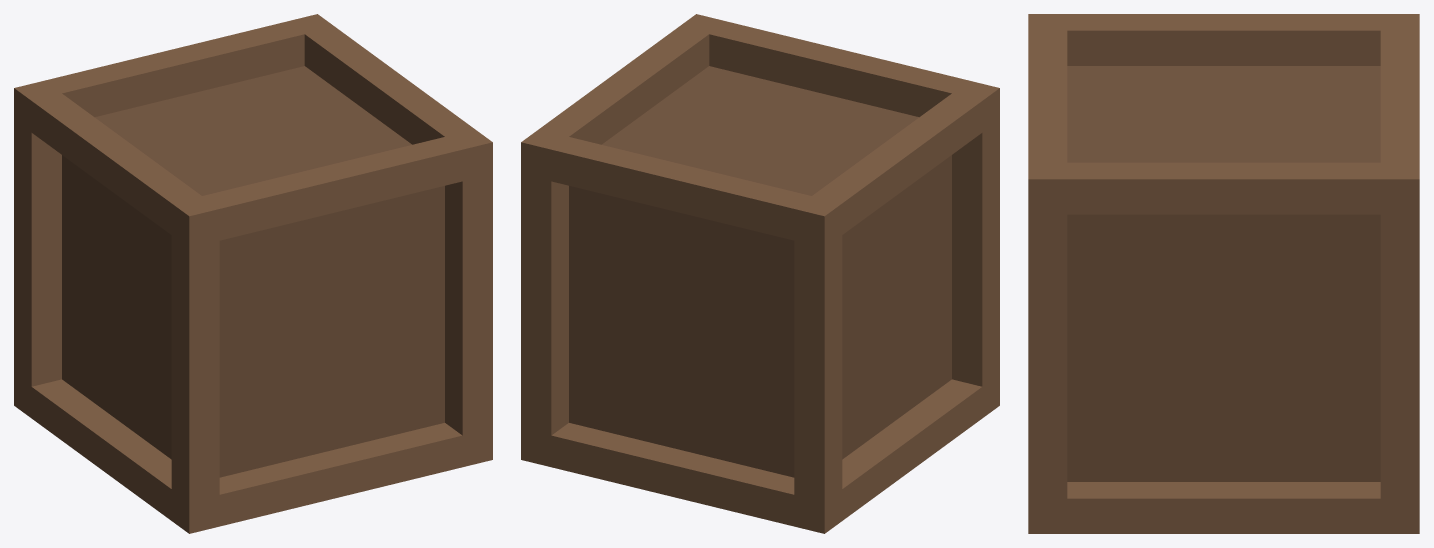
The model's file is BlocksAndFloors-4.obj.
3 renders of one model, left to right at view 1: azimuth 30°, elevation 25°; view 2: azimuth 150°, elevation 25°; view 3: azimuth 270°, elevation 25°, orthographic. The views are drawn at different scales.
Size of the model in its own units: 1 by 1 by 1.
1 material, 1 textured.
